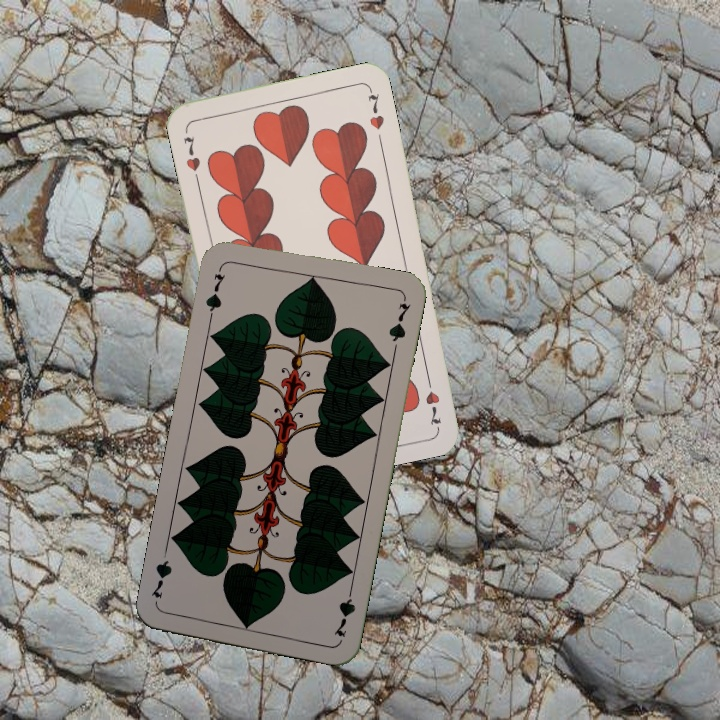G7: (330, 582, 358, 640), (201, 262, 228, 321)
H7: (421, 371, 444, 430), (179, 132, 203, 173)
